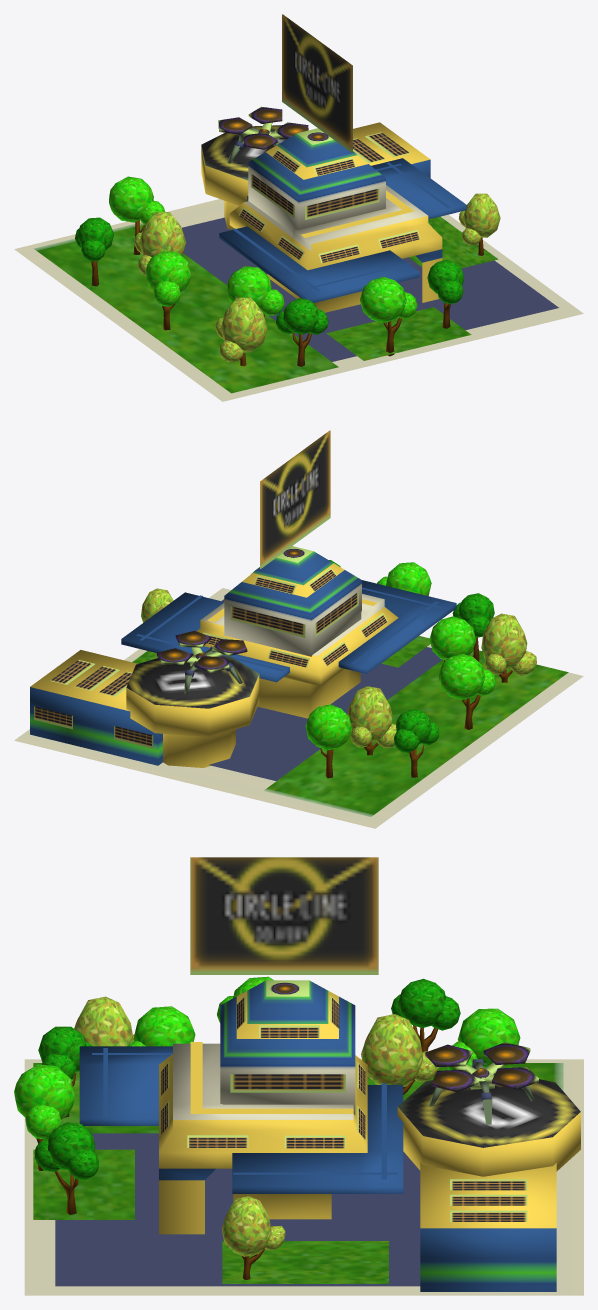
Rendered from courier_LV1.fbx.
The picture shows the model from 3 angles, top to bottom: view 1: azimuth 30°, elevation 25°; view 2: azimuth 150°, elevation 25°; view 3: azimuth 270°, elevation 25°; orthographic projection. The views are drawn at different scales.
Parts seen in each view (by area): view 1: courier level 1; view 2: courier level 1; view 3: courier level 1.
Boxes of the visible parts, box(x1,y1,x2,y2) form: courier level 1: box(14, 14, 583, 401); courier level 1: box(14, 430, 583, 828); courier level 1: box(14, 857, 583, 1295).
Size of the model in its own units: 100 by 68.51 by 102.
